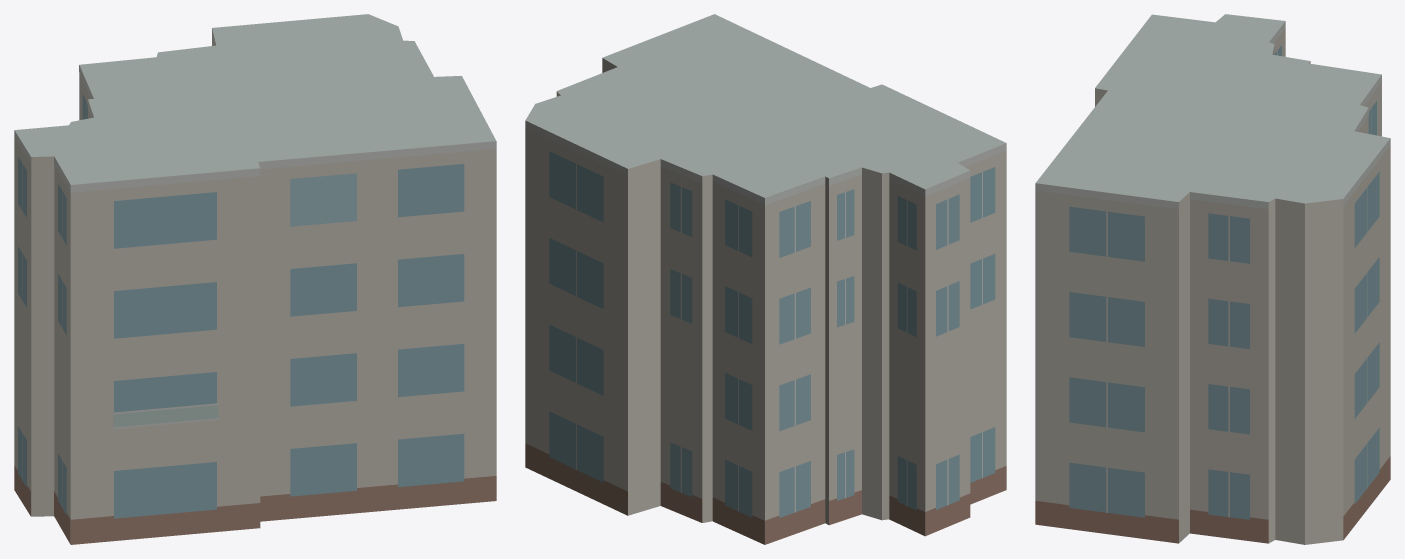
Rendered from survey-upis-32520333.glb.
The picture shows the model from 3 angles, left to right: view 1: azimuth 30°, elevation 25°; view 2: azimuth 150°, elevation 25°; view 3: azimuth 270°, elevation 25°; orthographic projection. The views are drawn at different scales.
Parts seen in each view (by area): view 1: survey-upis-32520333.tmp; view 2: survey-upis-32520333.tmp; view 3: survey-upis-32520333.tmp.
Boxes of the visible parts, <box> form: survey-upis-32520333.tmp: <box>14,14,496,544</box>; survey-upis-32520333.tmp: <box>525,14,1006,544</box>; survey-upis-32520333.tmp: <box>1035,14,1390,544</box>.
Bounding box in the file's own units: 13.76 × 11.55 × 10.9.
